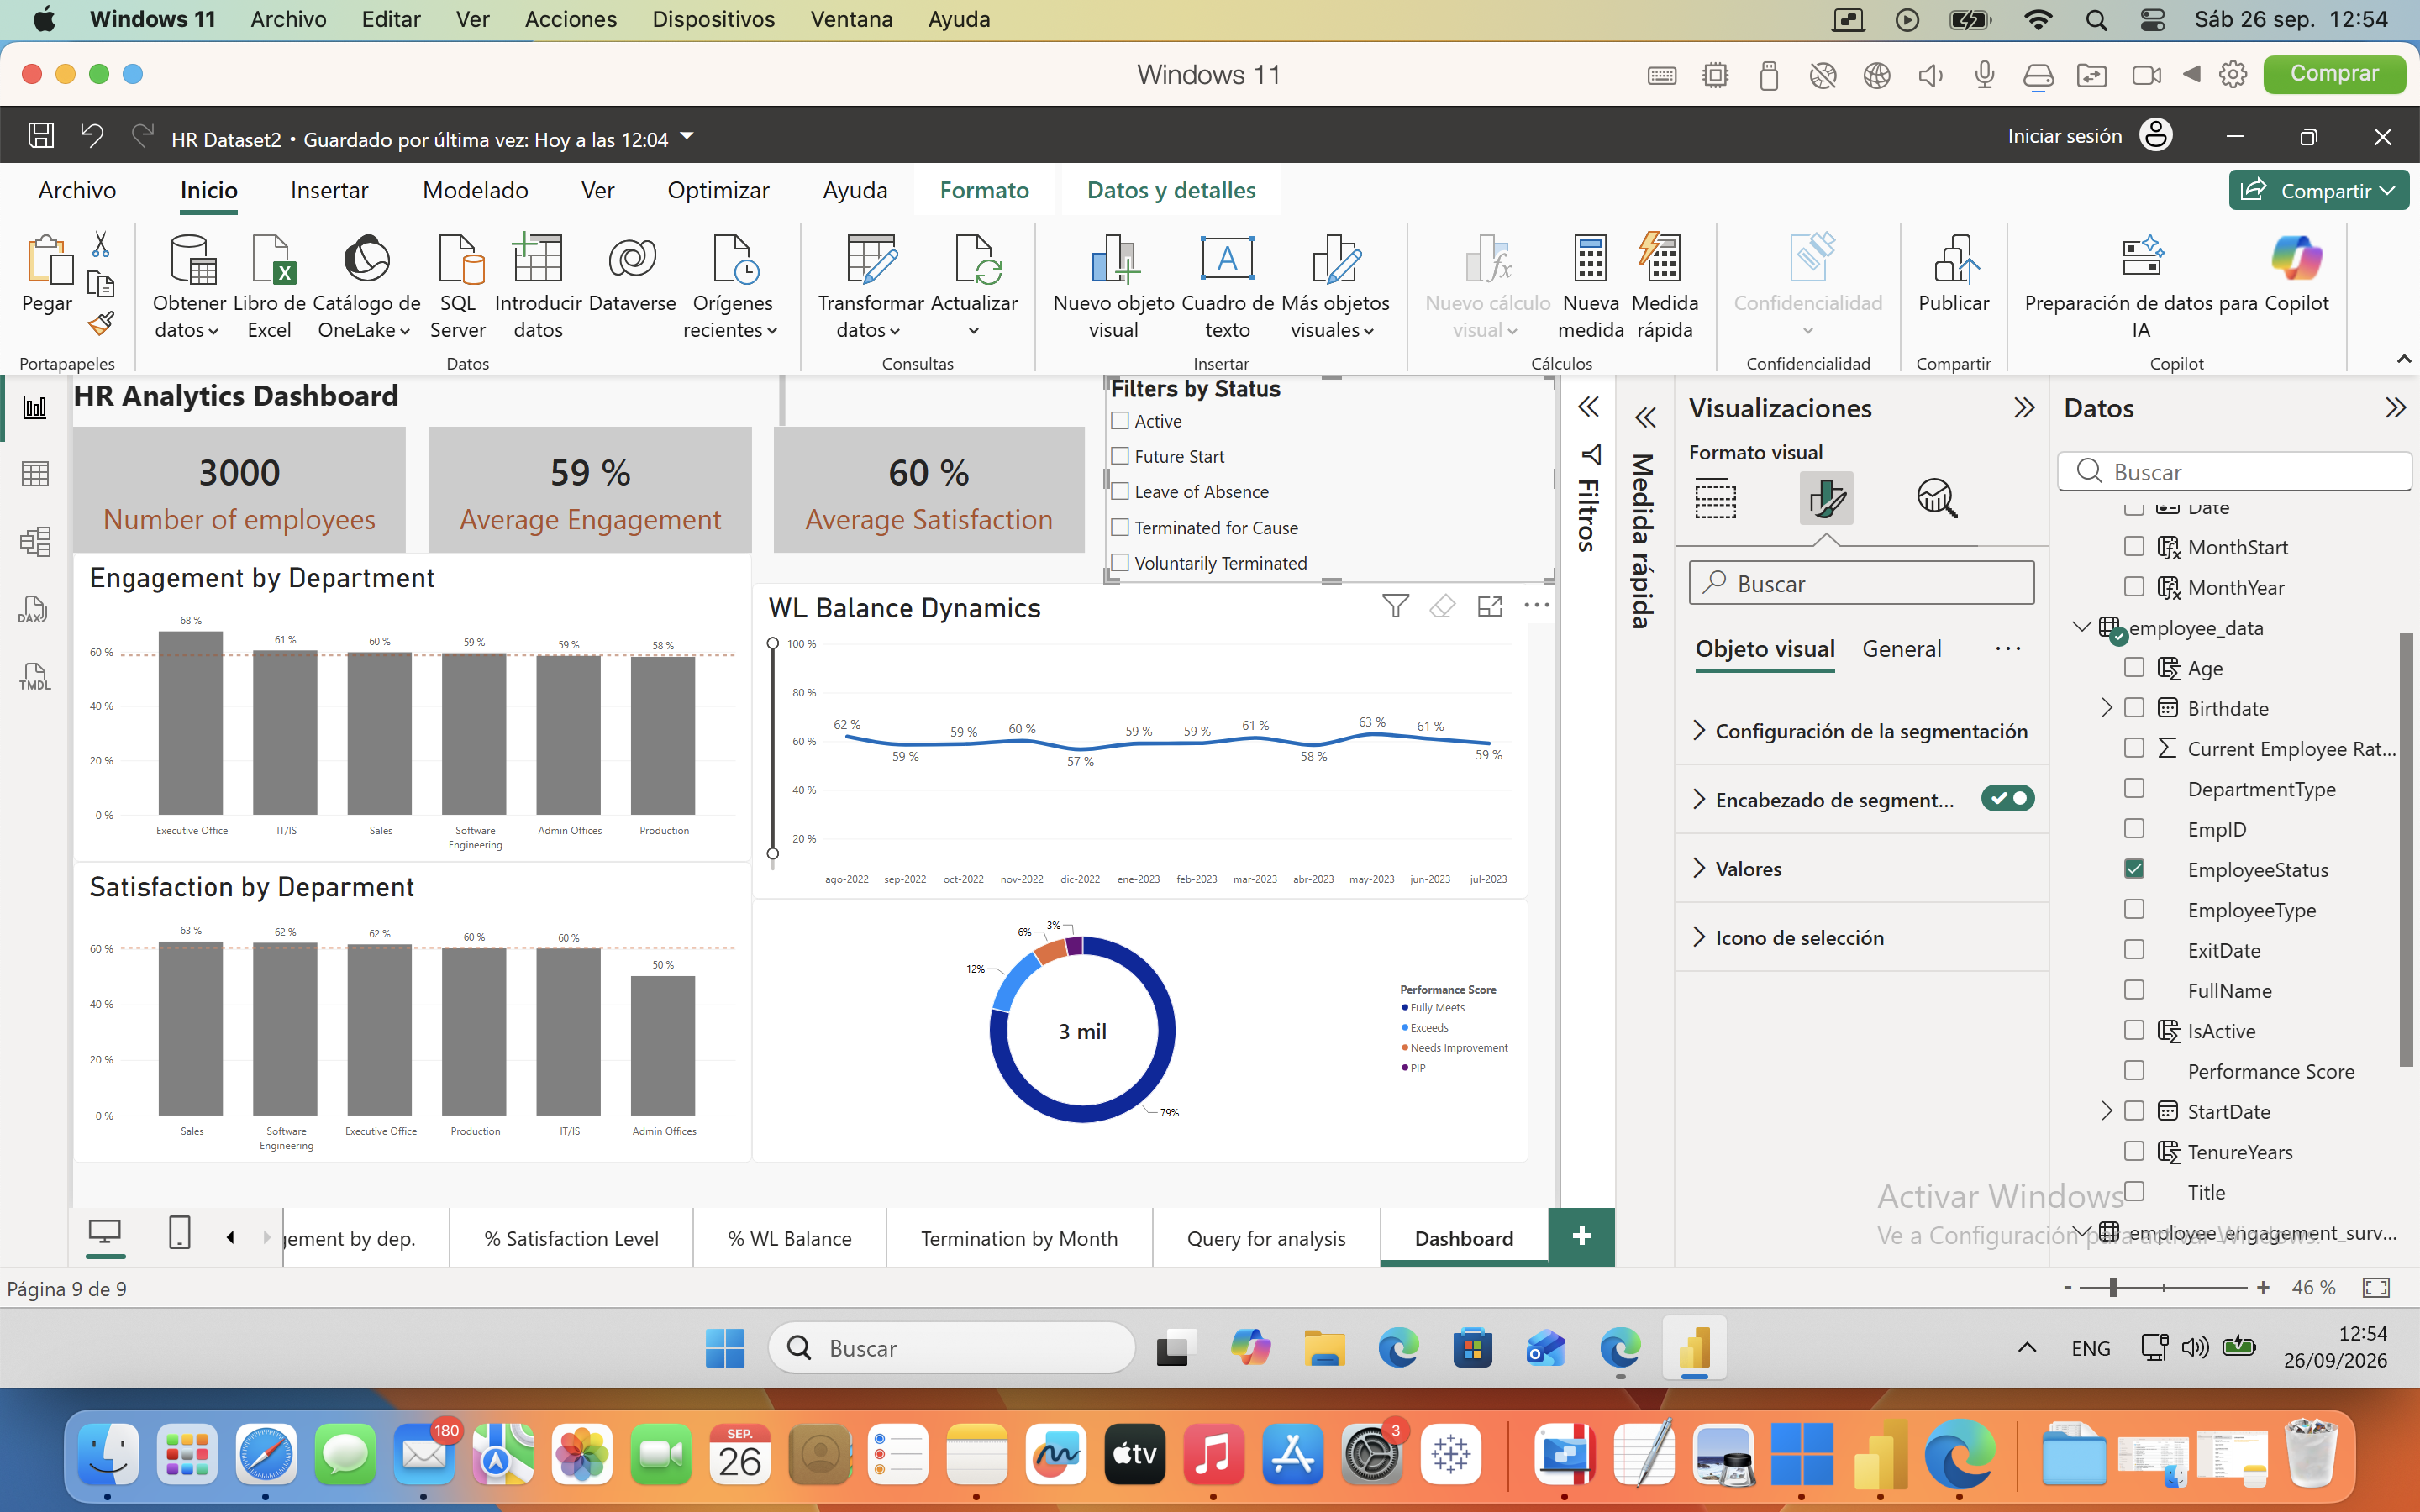

The page's visual inventory and layout, read from the dashboard file:
{"tool":"powerbi","page":{"name":"Dashboard","canvas":[1920,1080],"ordinal":8},"visuals":[{"type":"textbox","box":[0,0,923.2,67.5],"z":0},{"type":"card","fields":{"Values":["CountNonNull(employee_engagement_survey_data.EmpID)"]},"box":[0,67.5,431.1,163.3],"z":0,"group":"g1"},{"type":"group","id":"g1","title":"Grupo 1","box":[0,67.5,1310.8,163.3],"z":1000},{"type":"card","fields":{"Values":["employee_engagement_survey_data.% AverageEngagement"]},"box":[461.6,67.5,418.1,163.3],"z":1000,"group":"g1"},{"type":"card","fields":{"Values":["employee_engagement_survey_data.% AverageSatisfaction"]},"box":[908,67.5,402.8,163.3],"z":2000,"group":"g1"},{"type":"clusteredColumnChart","title":"Engagement by Department","fields":{"Category":["employee_data.DepartmentType"],"Y":["employee_engagement_survey_data.Medida"]},"box":[0,230.8,879.7,400.6],"z":2000},{"type":"clusteredColumnChart","title":"Satisfaction by Deparment","fields":{"Category":["employee_data.DepartmentType"],"Y":["employee_engagement_survey_data.% AverageSatisfaction"]},"box":[0,631.5,879.7,389.8],"z":3000},{"type":"lineChart","title":"WL Balance Dynamics","fields":{"Category":["Calendar.MonthYear"],"Y":["employee_engagement_survey_data.% Average WL Balance"]},"box":[879.7,270,1006,409.4],"z":3001},{"type":"slicer","title":"Filters by Status","fields":{"Values":["employee_data.EmployeeStatus"]},"box":[1336.9,0,587.9,270],"z":3002},{"type":"donutChart","fields":{"Category":["employee_data.Performance Score"],"Y":["CountNonNull(employee_data.Performance Score)"]},"box":[879.7,679.4,1006,341.9],"z":3003}]}

Visuals, with their boxes on the page's 1920x1080 design canvas (x1, y1, x2, y2). These are canvas units, not pixel positions in the 2420x1512 screenshot, which may show the page scaled, cropped or inside an application window:
textbox: l=0, t=0, r=923, b=68
card - CountNonNull(employee_engagement_survey_data.EmpID): l=0, t=68, r=431, b=231
"Grupo 1" group: l=0, t=68, r=1311, b=231
card - employee_engagement_survey_data.% AverageEngagement: l=462, t=68, r=880, b=231
card - employee_engagement_survey_data.% AverageSatisfaction: l=908, t=68, r=1311, b=231
"Engagement by Department" clusteredColumnChart: l=0, t=231, r=880, b=631
"Satisfaction by Deparment" clusteredColumnChart: l=0, t=632, r=880, b=1021
"WL Balance Dynamics" lineChart: l=880, t=270, r=1886, b=679
"Filters by Status" slicer: l=1337, t=0, r=1925, b=270
donutChart - employee_data.Performance Score x CountNonNull(employee_data.Performance Score): l=880, t=679, r=1886, b=1021
